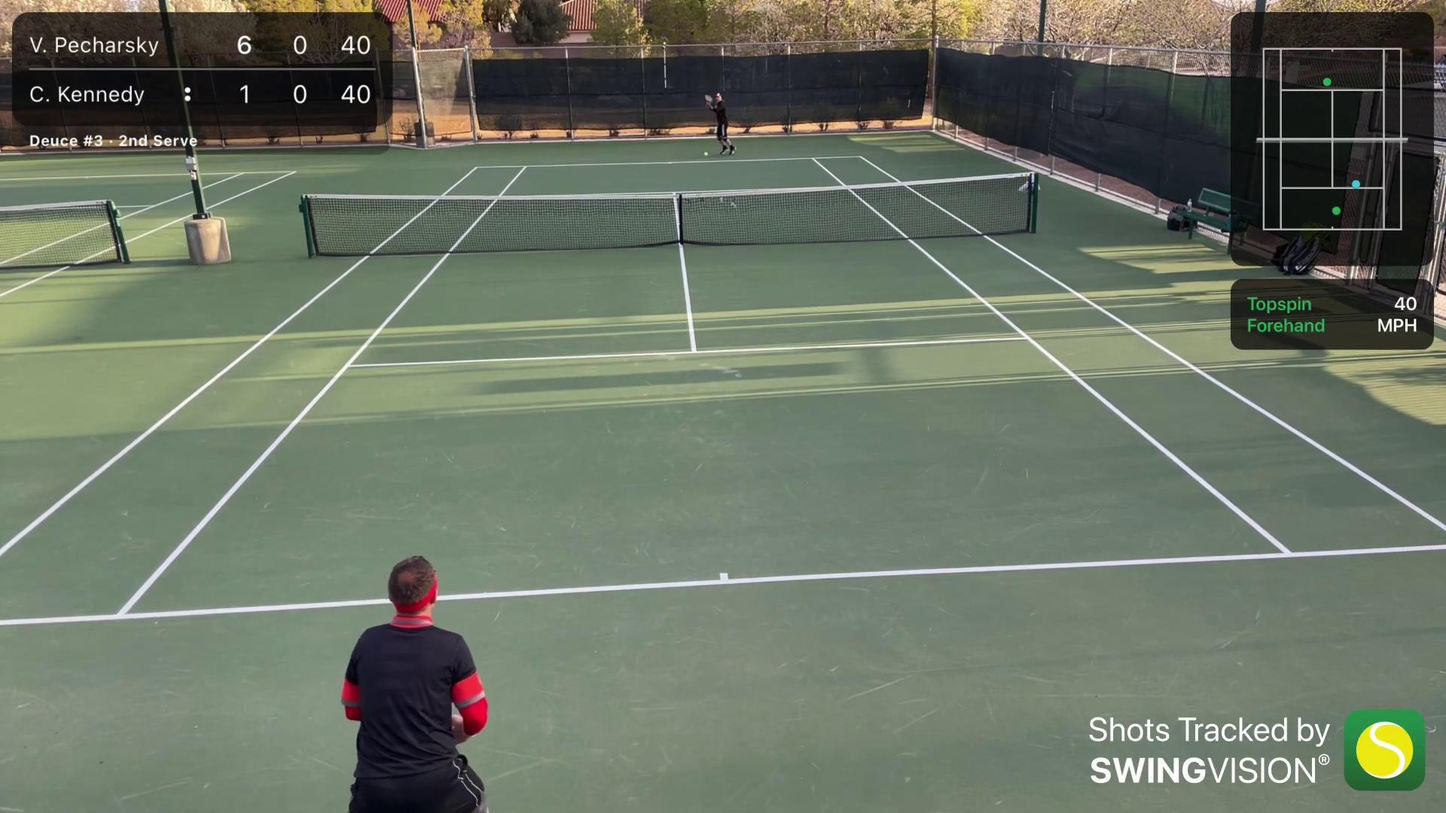ball: (219, 367, 229, 375), (703, 151, 710, 155)
